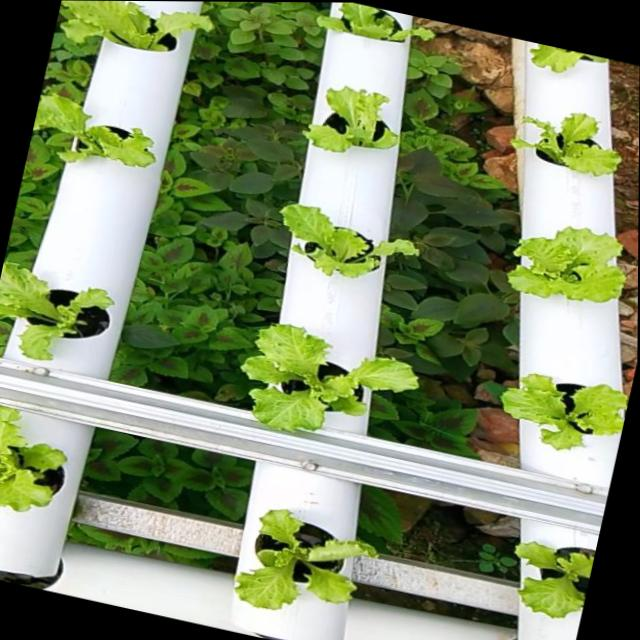Baby: (239, 320, 419, 428), (232, 507, 377, 609), (0, 258, 110, 357), (278, 197, 420, 273), (502, 369, 630, 446), (509, 220, 631, 298), (35, 84, 152, 160), (513, 105, 626, 169), (302, 77, 400, 144), (0, 404, 62, 509), (57, 0, 209, 42), (517, 539, 595, 617)
